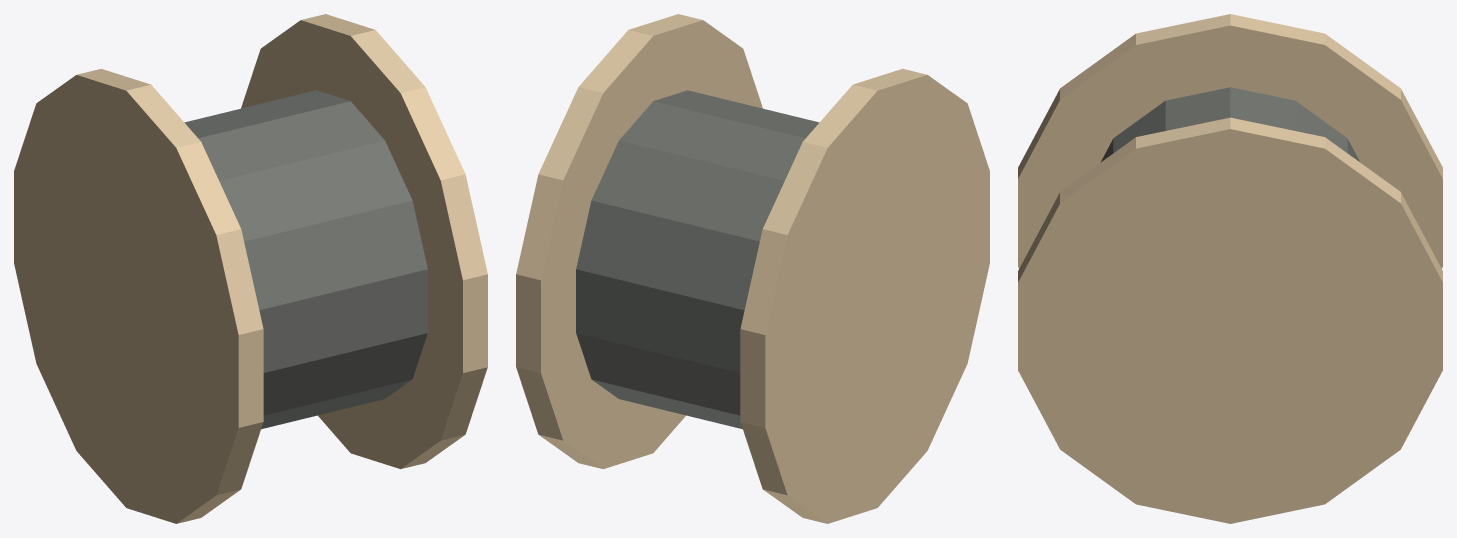
Rendered from lab_cable_reel.glb.
3 renders of one model, left to right at view 1: azimuth 30°, elevation 25°; view 2: azimuth 150°, elevation 25°; view 3: azimuth 270°, elevation 25°, orthographic. The views are drawn at different scales.
Visible parts, largest first — view 1: lab_cable_reel; view 2: lab_cable_reel; view 3: lab_cable_reel.
Boxes of the visible parts, x1,y1,x2,y2 form: lab_cable_reel: (14,14,487,523); lab_cable_reel: (516,14,989,523); lab_cable_reel: (1018,14,1442,523).
Size of the model in its own units: 0.4 by 0.64 by 0.624.
